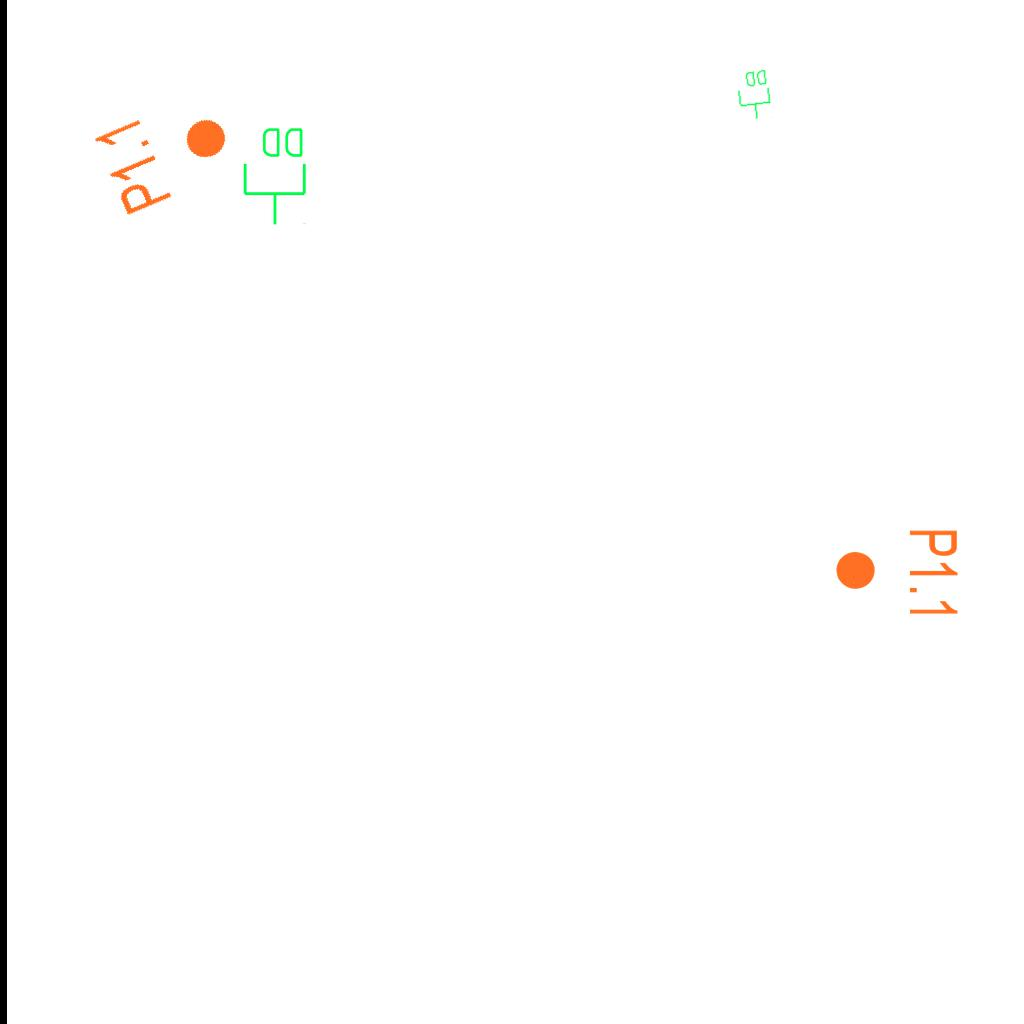Datenanschluss_zweifach: (241, 124, 310, 227), (734, 67, 775, 123)
Downlight_LED_Einbauleuchten_Flur: (89, 84, 244, 220), (833, 527, 961, 620)
